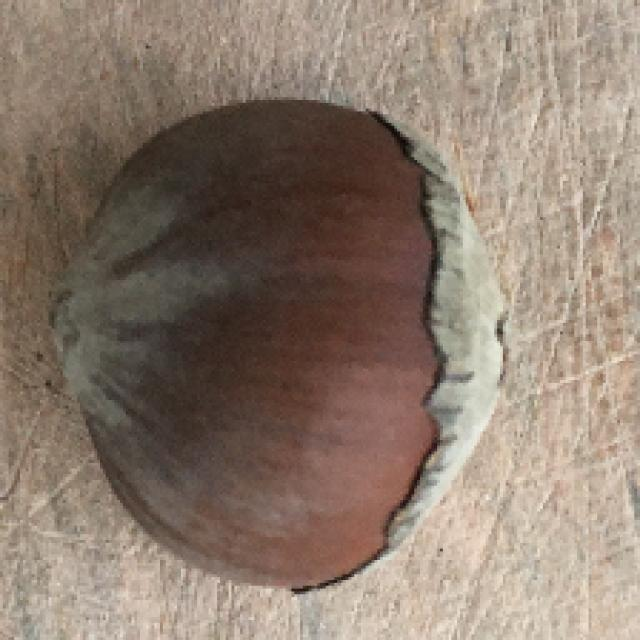damagedHazelnut: (53, 95, 503, 603)
